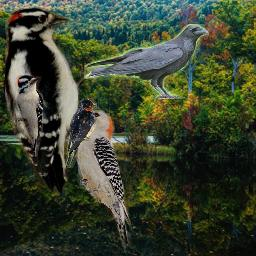Crow: (84, 24, 209, 99)
Swallow: (64, 98, 97, 168)
Woodpecker: (5, 8, 101, 193), (66, 101, 136, 253), (14, 75, 43, 157)
